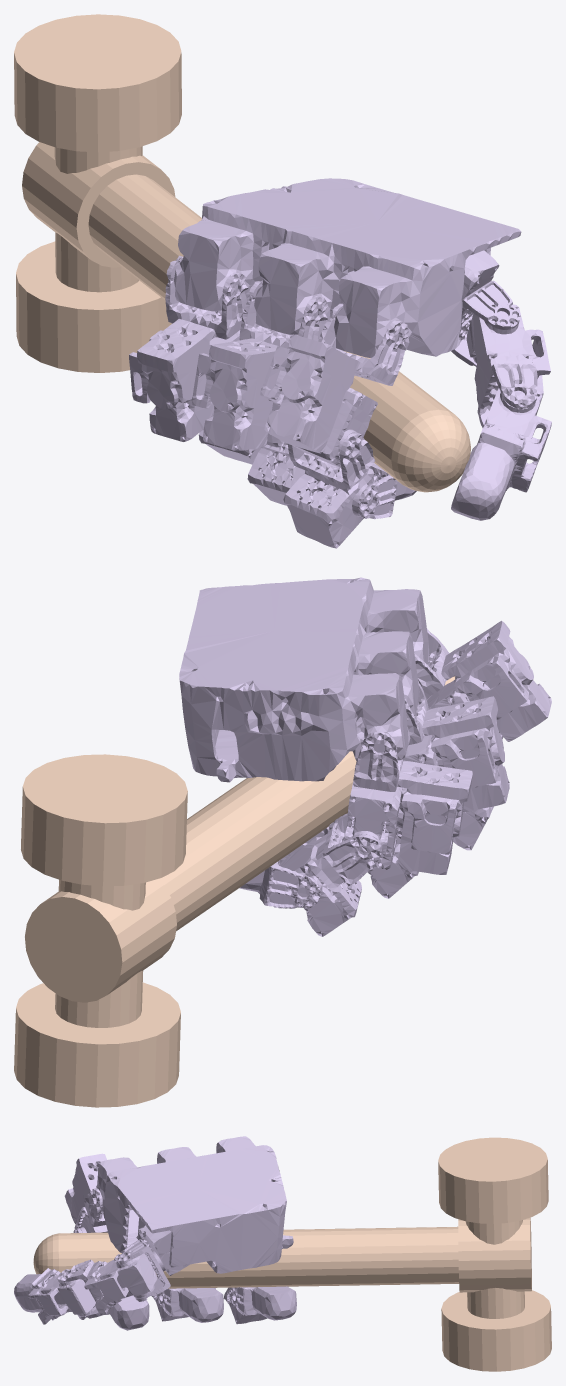
Rendered from e05fac7fb5456d-final.glb.
The picture shows the model from 3 angles, top to bottom: view 1: azimuth 30°, elevation 25°; view 2: azimuth 150°, elevation 25°; view 3: azimuth 270°, elevation 25°; orthographic projection. The views are drawn at different scales.
Parts seen in each view (by area): view 1: LEAP_hand, world; view 2: LEAP_hand, world; view 3: world, LEAP_hand.
Part boxes in pixels (x1=…): LEAP_hand: x1=129, y1=178, x2=551, y2=548; world: x1=14, y1=14, x2=470, y2=492; LEAP_hand: x1=179, y1=577, x2=551, y2=936; world: x1=14, y1=676, x2=455, y2=1107; world: x1=33, y1=1137, x2=551, y2=1371; LEAP_hand: x1=14, y1=1136, x2=296, y2=1330.
Size of the model in its own units: 0.1715 by 0.1462 by 0.3729.
